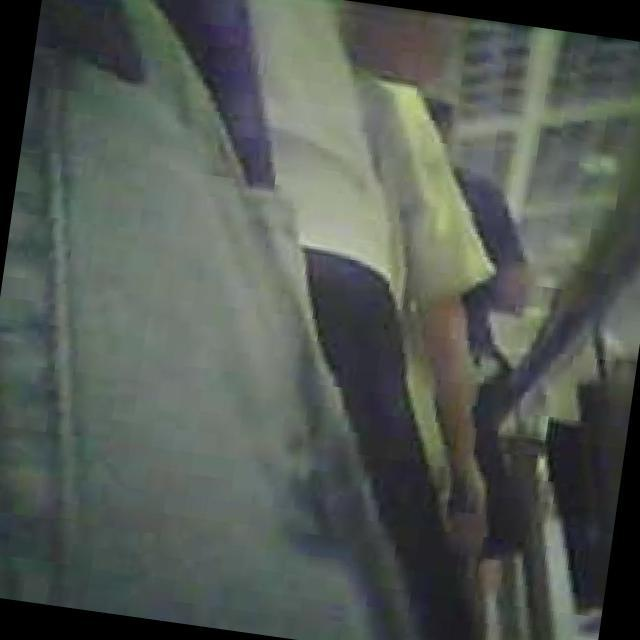person: (0, 0, 472, 640), (177, 0, 552, 557), (368, 88, 550, 370)
